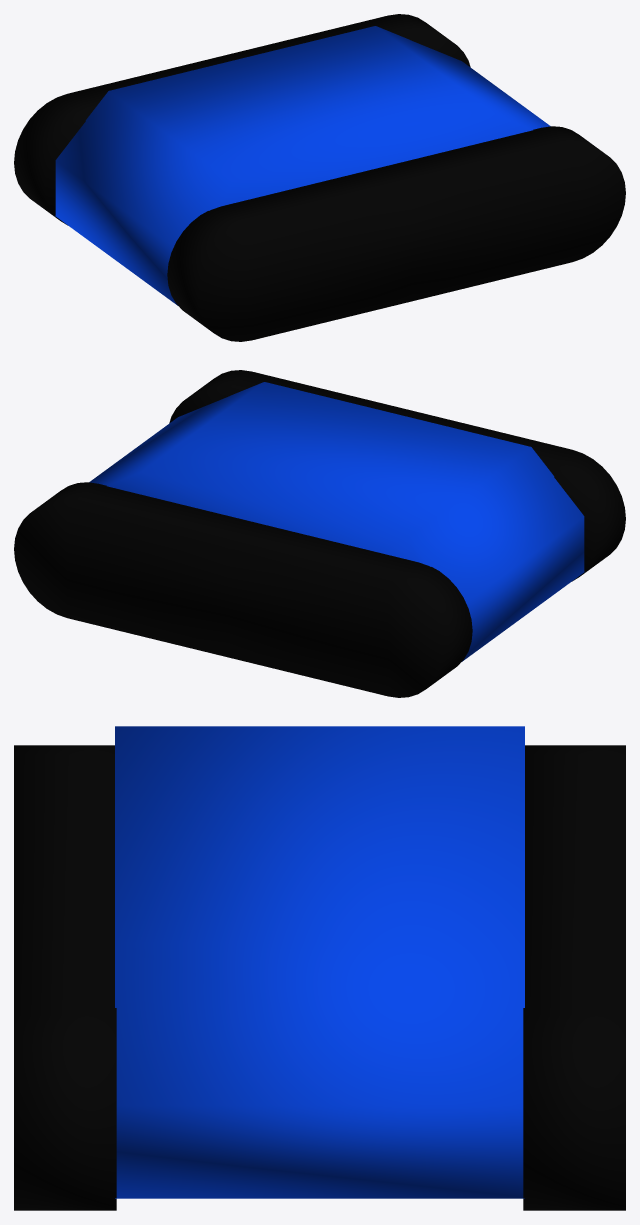
Rendered from player_body_hitmodel.dae.
The picture shows the model from 3 angles, top to bottom: view 1: azimuth 30°, elevation 25°; view 2: azimuth 150°, elevation 25°; view 3: azimuth 270°, elevation 25°; orthographic projection. The views are drawn at different scales.
Parts seen in each view (by area): view 1: Tracks, Body; view 2: Tracks, Body; view 3: Body, Tracks.
Boxes of the visible parts, left/top/right/bottom form: Tracks: left=14, top=14, right=625, bottom=341; Body: left=55, top=26, right=550, bottom=305; Tracks: left=14, top=370, right=625, bottom=697; Body: left=89, top=382, right=584, bottom=661; Body: left=115, top=726, right=524, bottom=1198; Tracks: left=14, top=745, right=625, bottom=1210.
Size of the model in its own units: 4 by 2.98 by 1.2.
